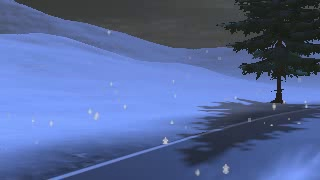Lane: (55, 107, 319, 179)
